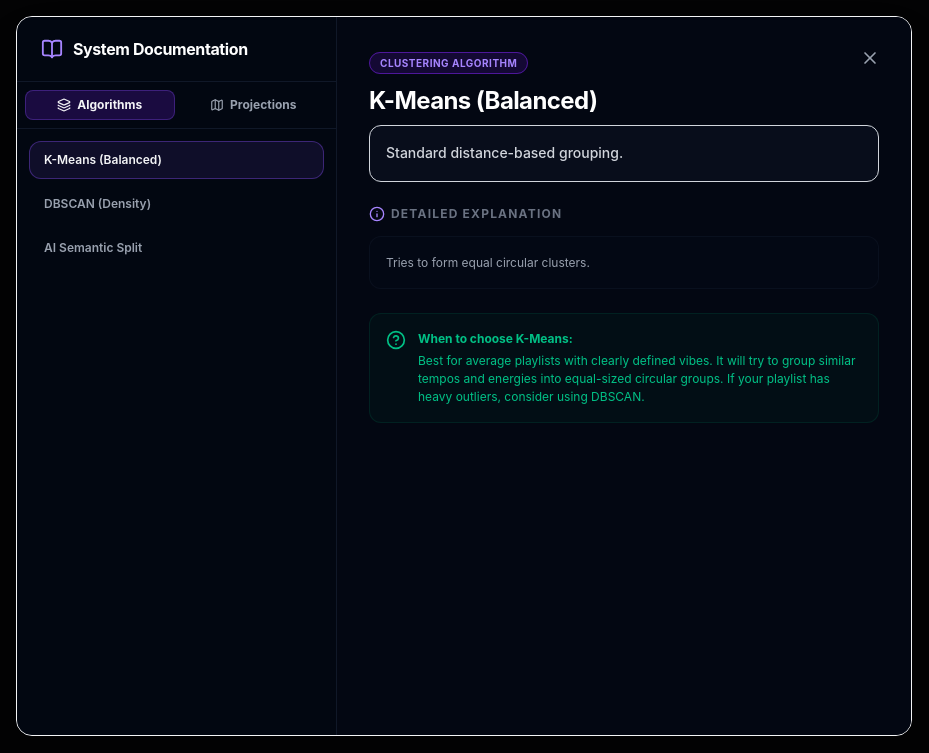
Test: DocumentationModal Component › switches tabs and active item correctly
The width and height of the screenshot is (929, 753).
// Click Projections tab button
Click the button "Projections".
click(253, 105)  # box [178, 90, 328, 120]
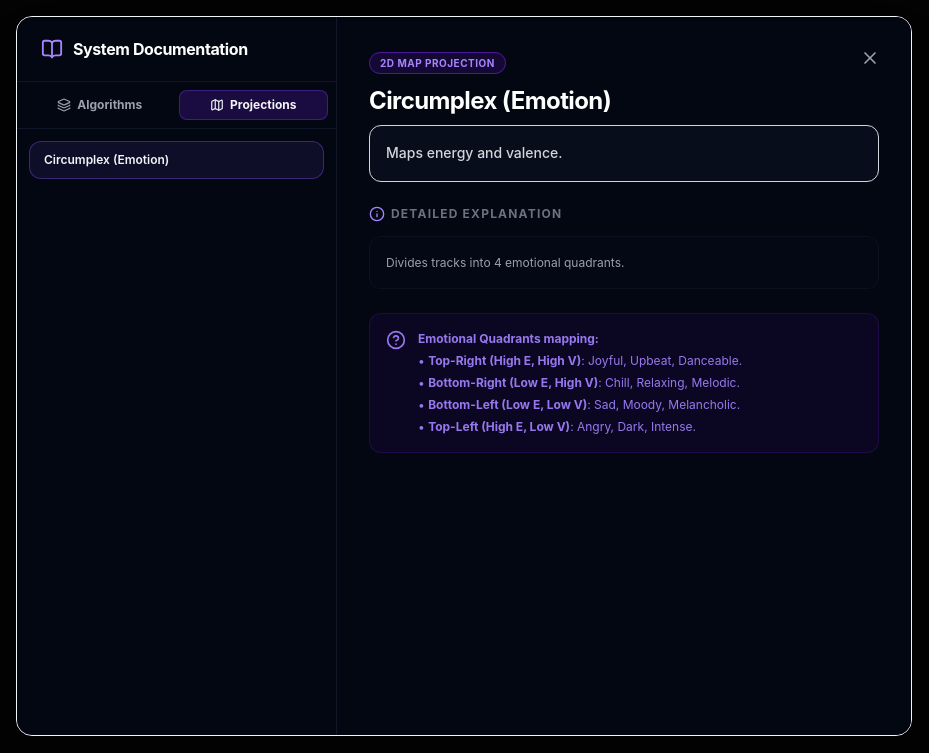
Result: the button "Circumplex (Emotion)" is shown at [29, 141, 324, 179]
Result: the text "Maps energy and valence." is shown at [369, 125, 879, 182]
